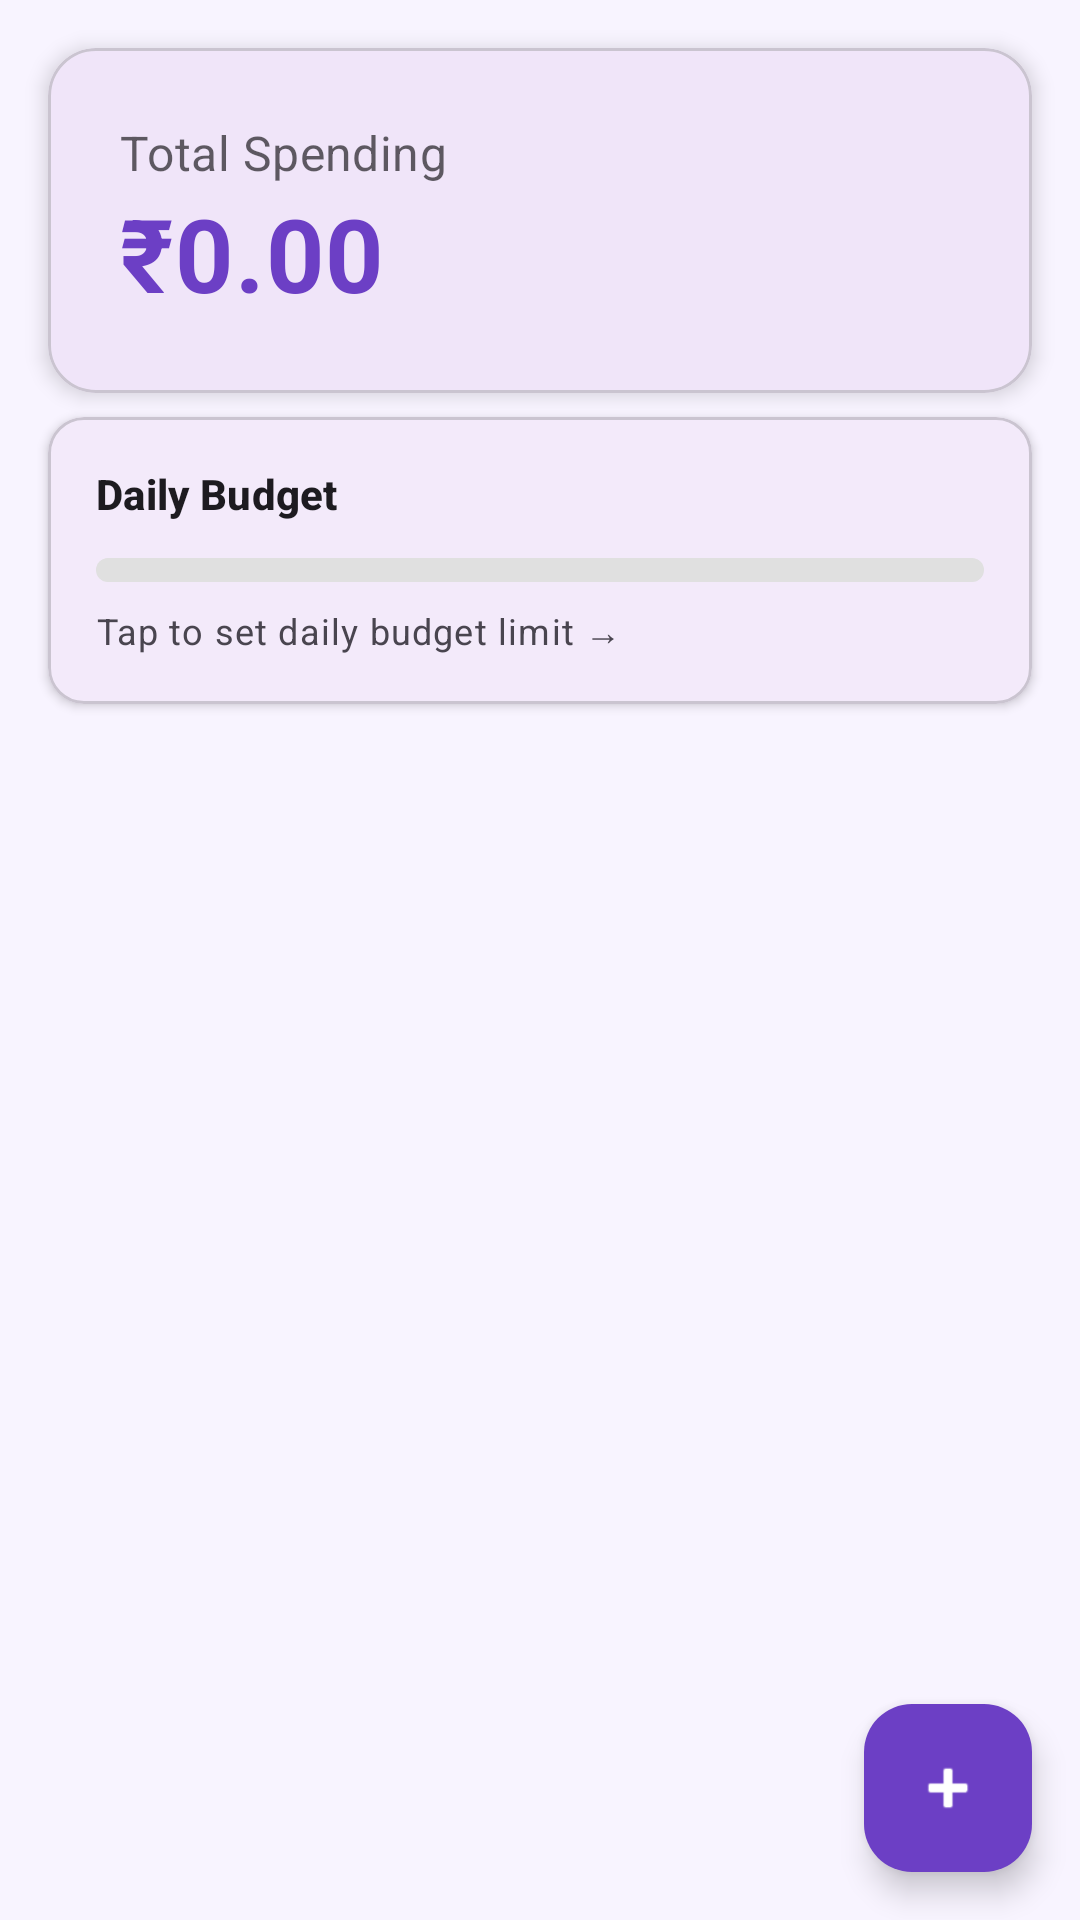

Named icons in this screenshot (1080 x 1920) and their bounding boxes, [x1=x1, y1=y1, x2=x2, y2=y2]:
Add Expense: [x1=864, y1=1704, x2=1032, y2=1872]
